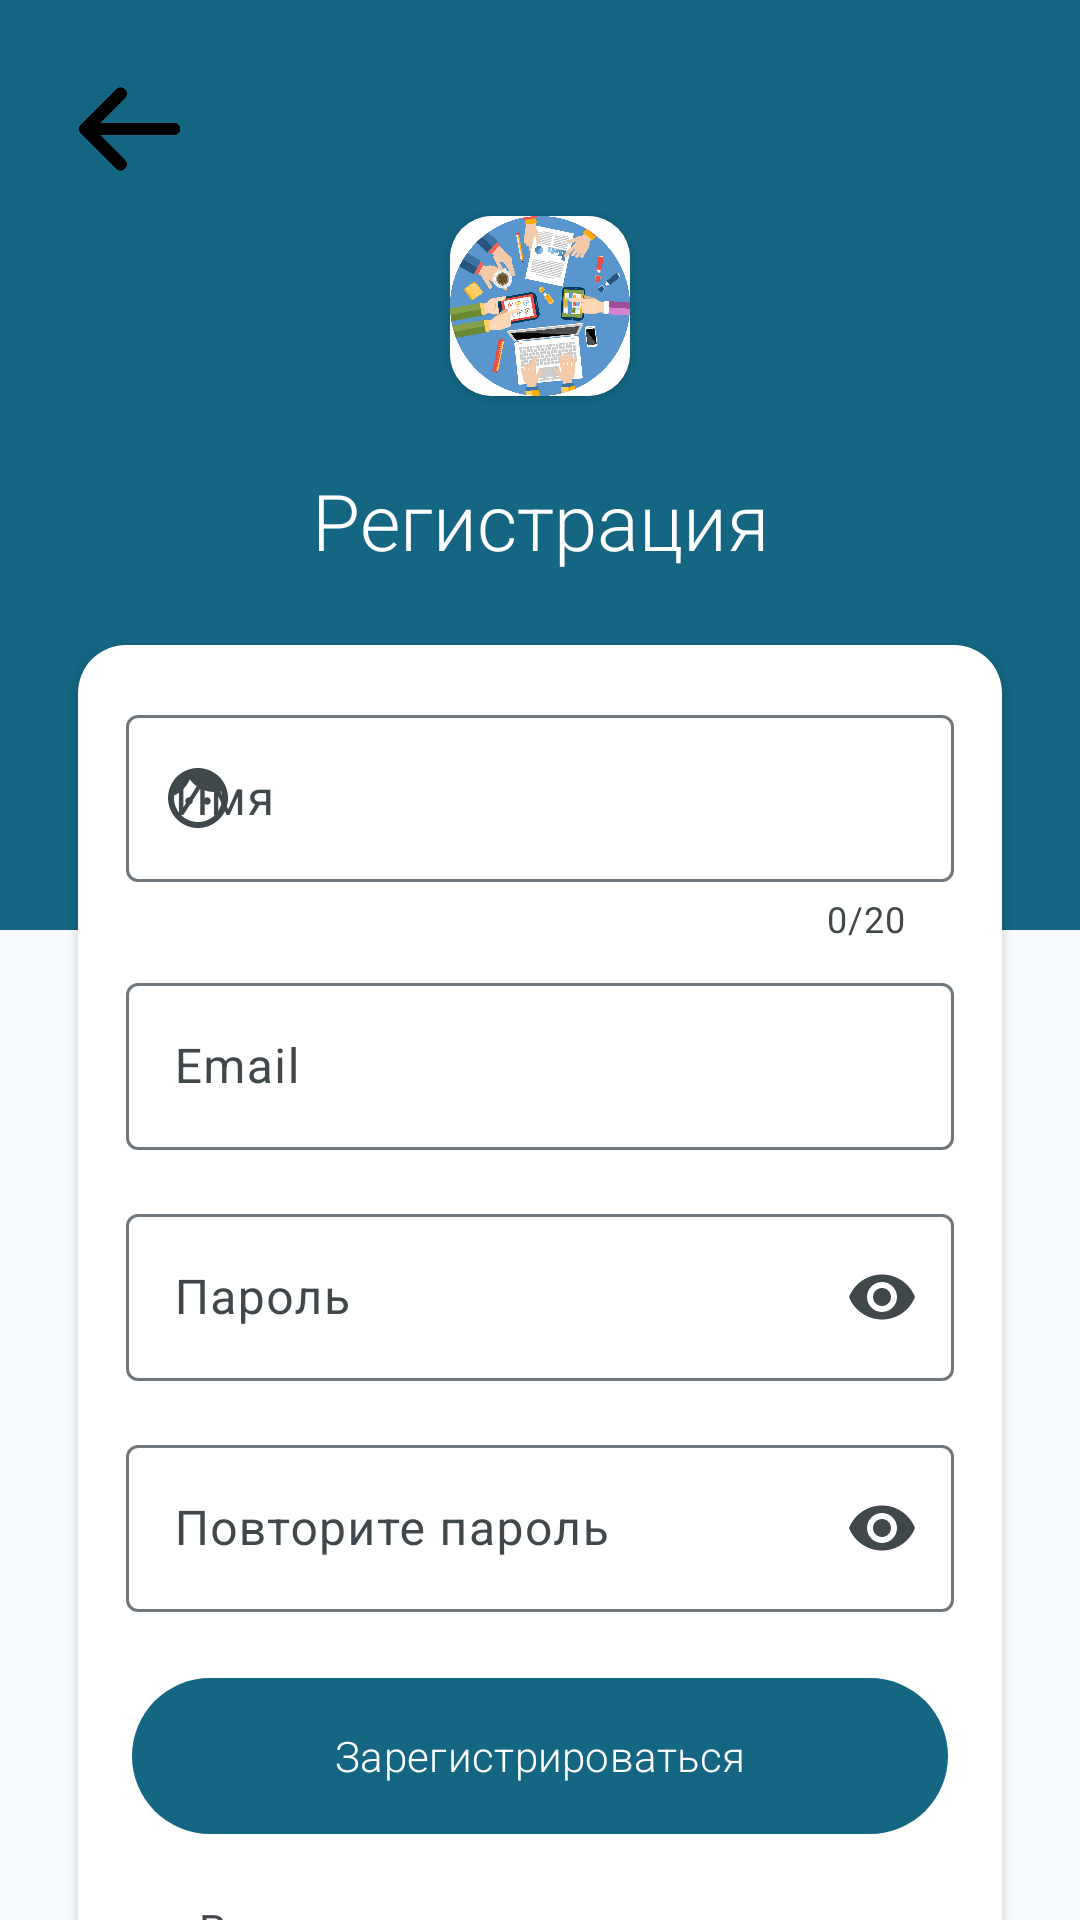

Point at icon controls on the screen. Image size 1080 x 1920, points as (x=x, y=y).
back: (x=129, y=129)
